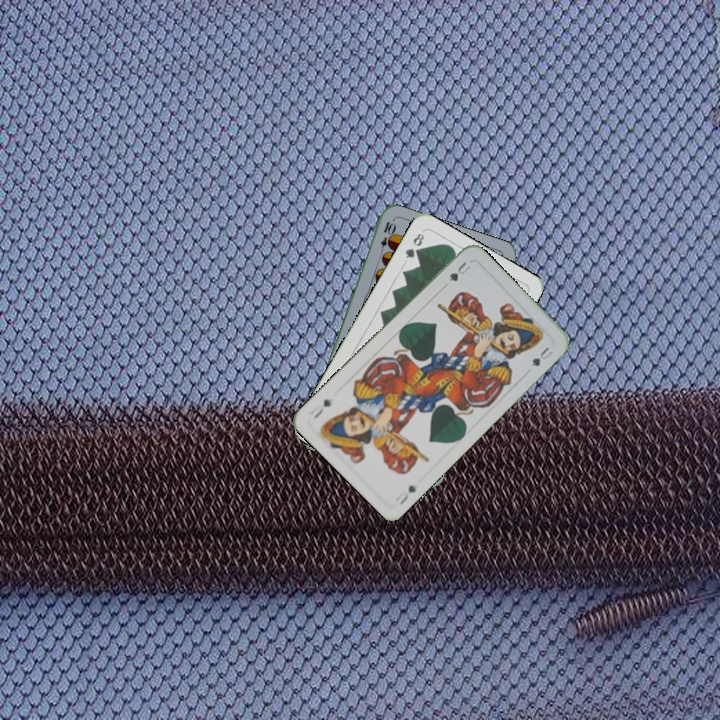E10: (376, 218, 397, 258)
G8: (401, 228, 427, 261)
GU: (445, 257, 473, 284), (394, 481, 420, 508)
